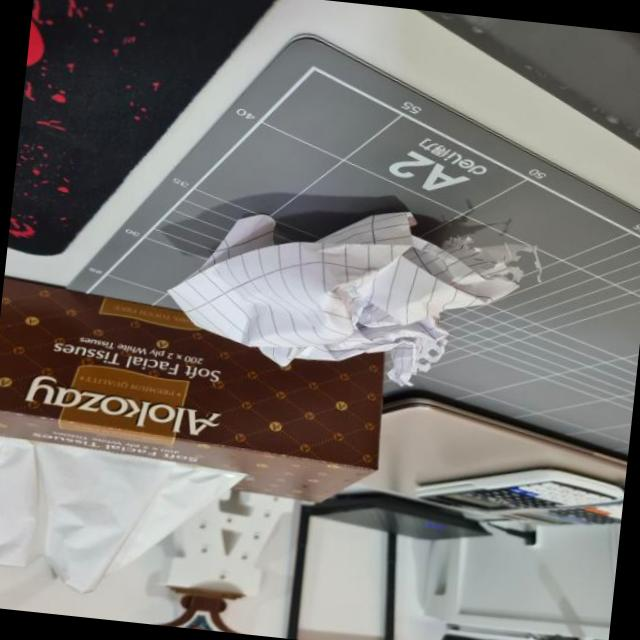cardboard paper: (0, 278, 383, 502)
